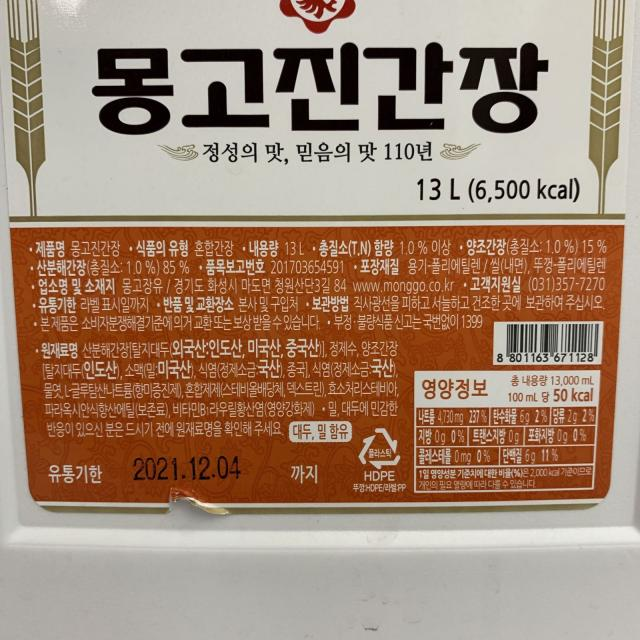Plastic: (355, 424, 402, 472)
